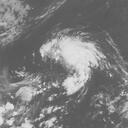cyclone: (39, 27, 103, 96)
